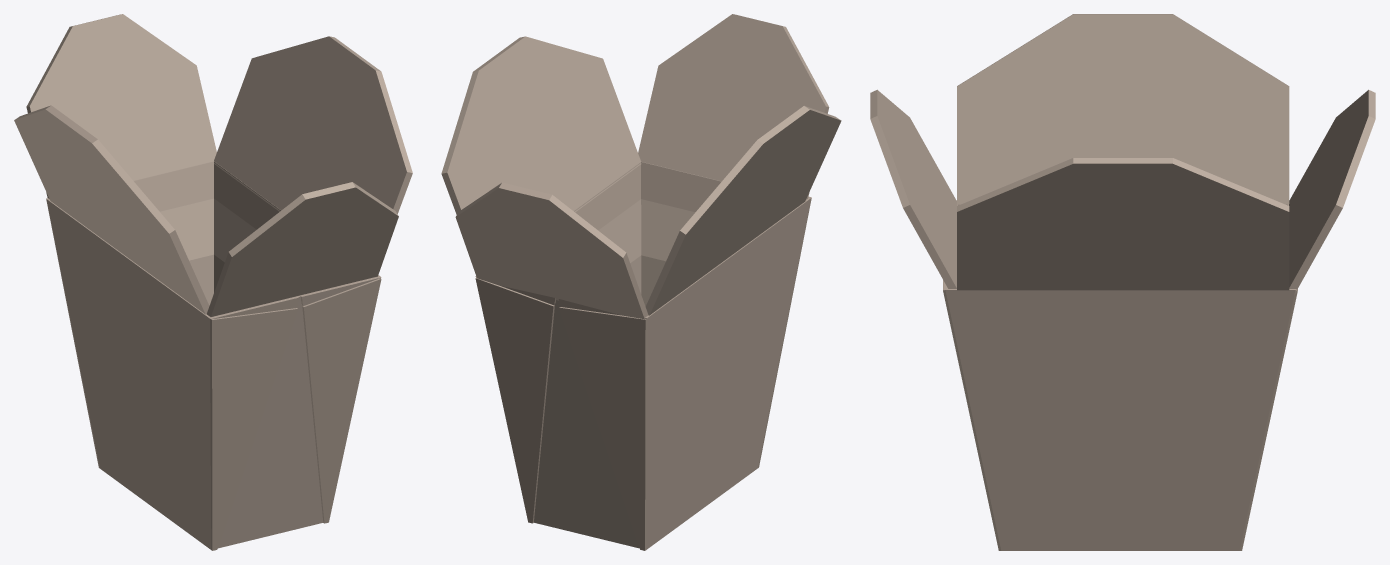
The model's file is Low Poly Noodle Box.fbx.
The picture shows the model from 3 angles, left to right: view 1: azimuth 30°, elevation 25°; view 2: azimuth 150°, elevation 25°; view 3: azimuth 270°, elevation 25°; orthographic projection. The views are drawn at different scales.
Parts seen in each view (by area): view 1: mainBox, pCube5, pCube2, pCube3, pCube4; view 2: mainBox, pCube5, pCube3, pCube2, pCube4; view 3: mainBox, pCube4, pCube5, pCube2, pCube3.
Boxes of the visible parts, box(x1,y1,x2,y2) form: mainBox: box(46, 161, 381, 550); pCube5: box(214, 36, 412, 213); pCube2: box(26, 14, 216, 198); pCube3: box(207, 182, 398, 316); pCube4: box(14, 105, 209, 314); mainBox: box(475, 161, 811, 550); pCube5: box(441, 36, 641, 214); pCube3: box(638, 14, 829, 199); pCube2: box(455, 182, 648, 319); pCube4: box(645, 106, 841, 315); mainBox: box(943, 200, 1297, 550); pCube4: box(957, 14, 1289, 204); pCube5: box(957, 158, 1289, 290); pCube2: box(1289, 89, 1375, 289); pCube3: box(870, 89, 956, 288).
Size of the model in its own units: 1.5 by 2.02 by 2.12.
